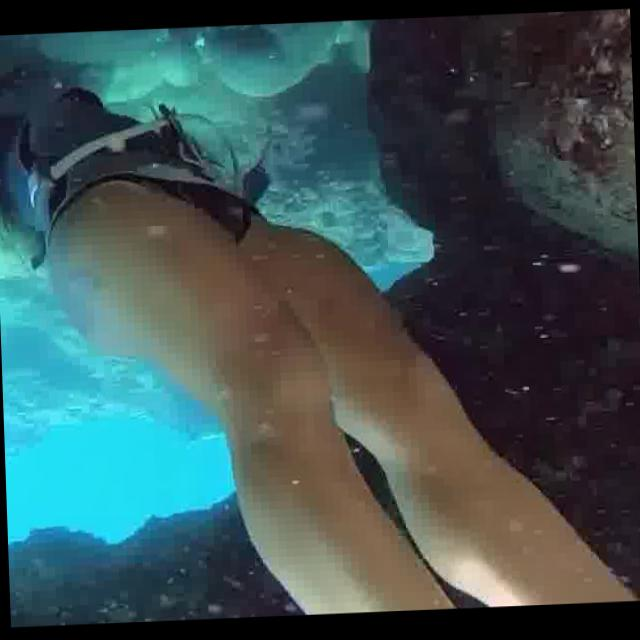human: (0, 9, 640, 627)
